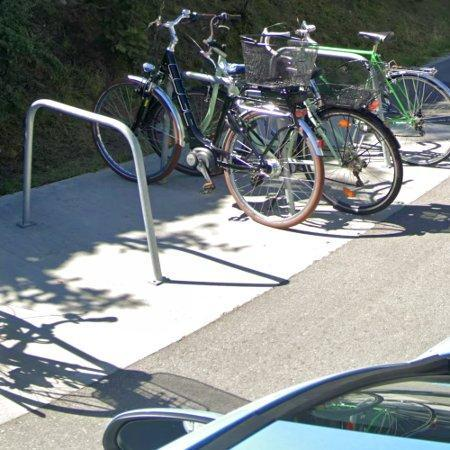bicycles: (95, 9, 324, 229), (94, 126, 135, 180)
